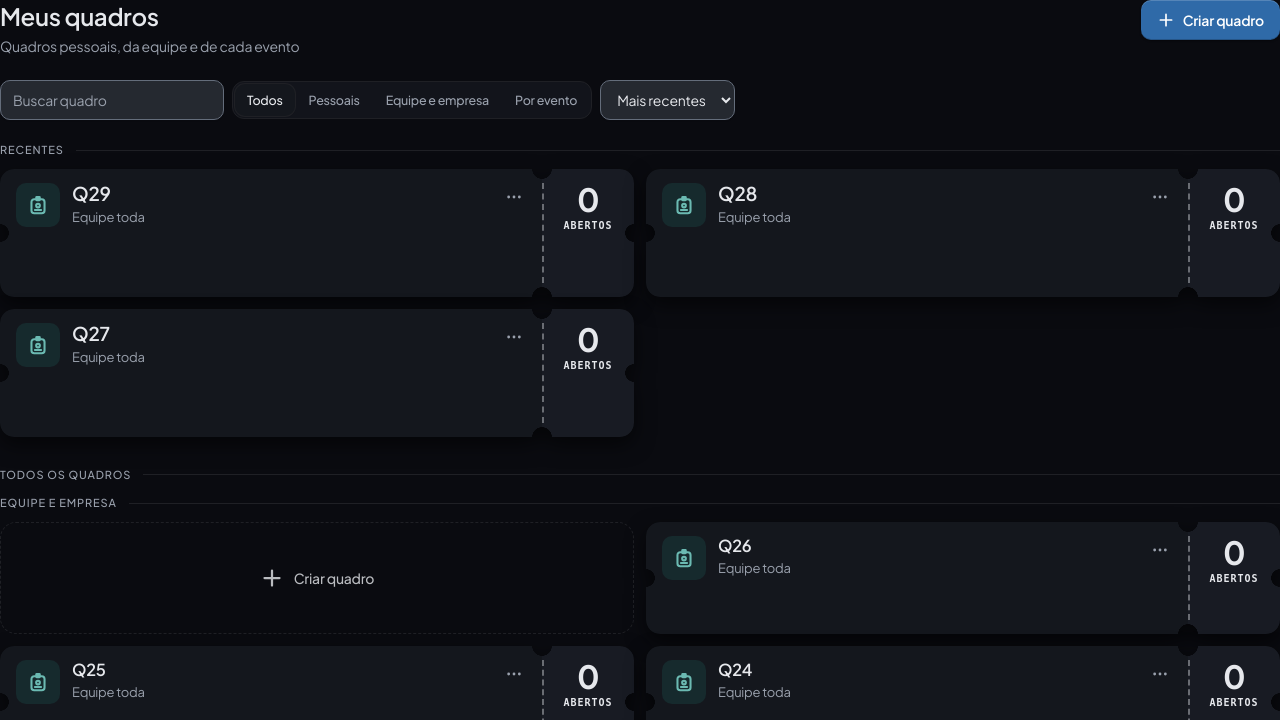
Test: tela Meus quadros › no teto de 30 quadros próprios o "Continuar" fica desligado e avisa
Expected: the link "Q29" is shown, [72,183,111,204]
Click the button "Criar quadro" in the row of "Meus quadros". click: (1210, 20)
box: [1141,0,1279,40]
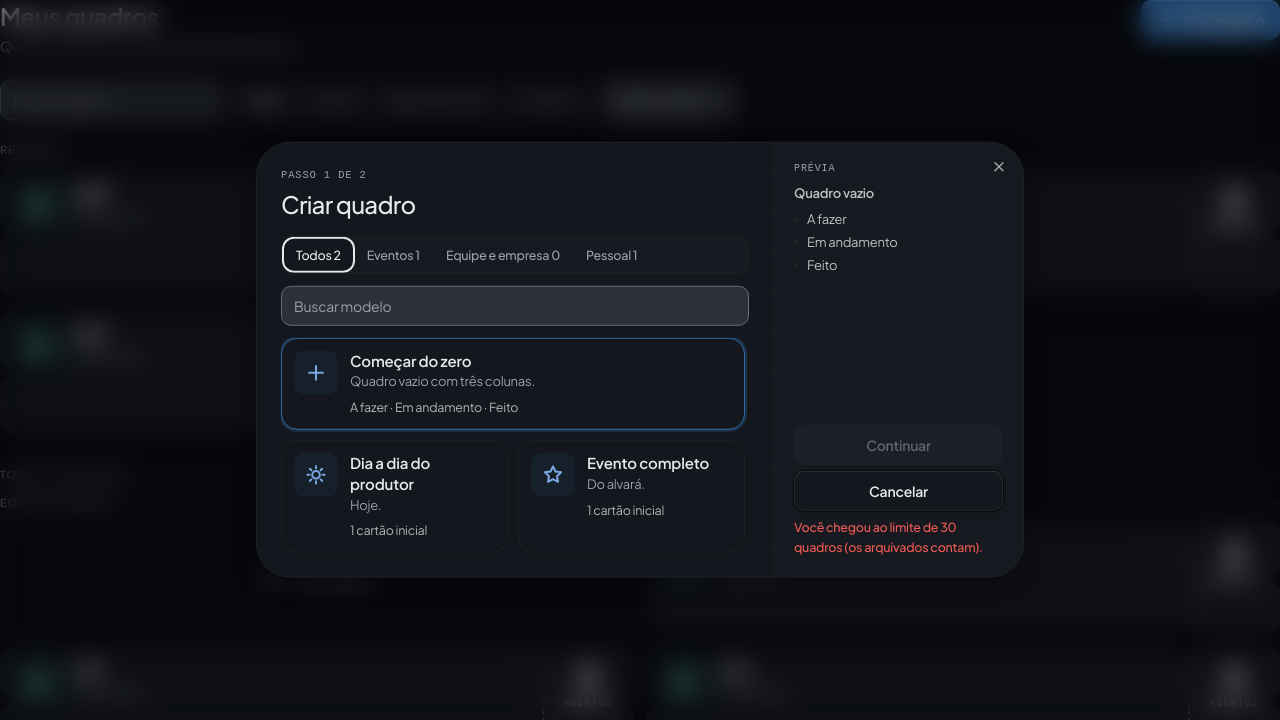
Expected: the button "Continuar" is disabled, [794,425,1003,465]
Expected: the message shows "limite de 30 quadros", [794,517,1003,557]
